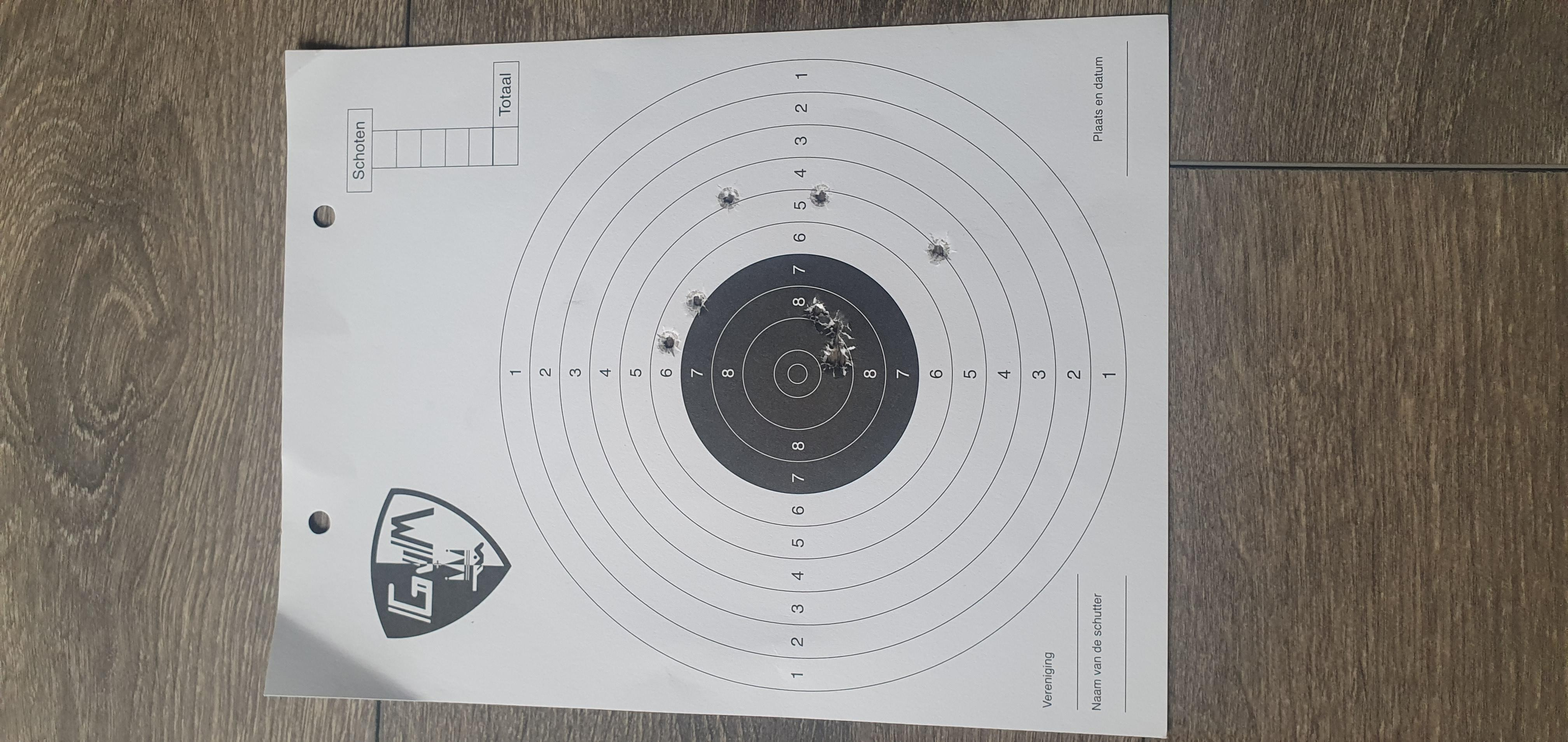hole: (768, 386, 857, 406), (1004, 437, 1086, 453), (842, 386, 914, 404), (811, 309, 879, 324), (896, 322, 965, 336), (881, 379, 941, 395), (1116, 339, 1182, 351), (1125, 382, 1183, 395)
